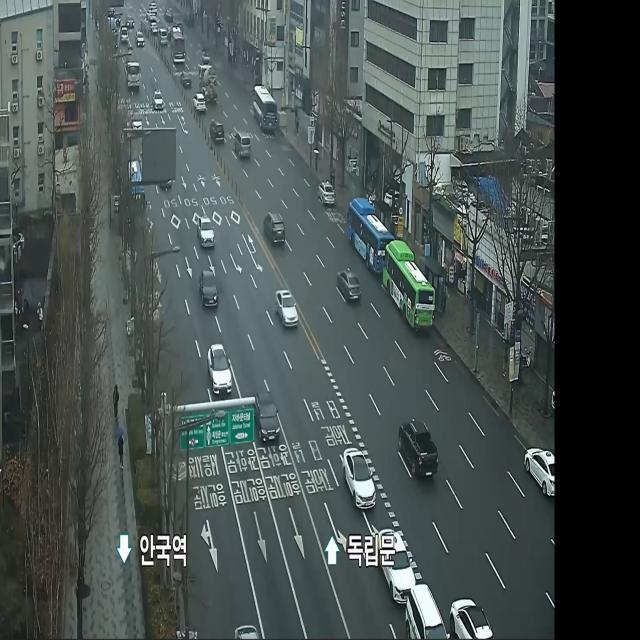car: (382, 239, 436, 334), (346, 193, 395, 275), (251, 81, 278, 137)
motorcycle: (398, 412, 440, 482), (341, 443, 378, 513), (526, 438, 556, 498), (208, 342, 232, 400), (274, 284, 300, 333), (264, 210, 287, 250), (198, 270, 219, 313), (198, 218, 216, 252)
